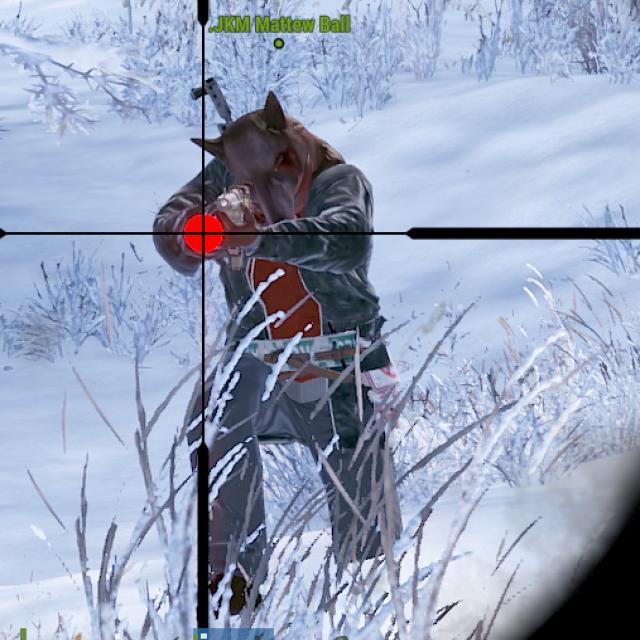Player: (153, 97, 391, 559)
